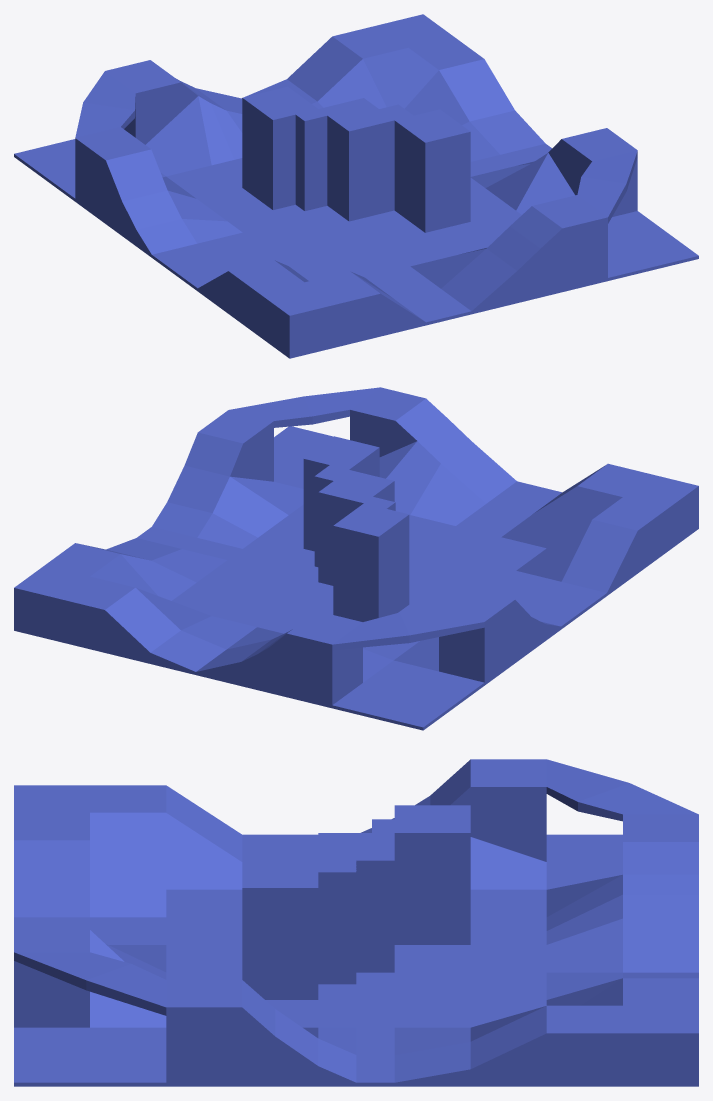
Rendered from map3.fbx.
3 views of the same model, one above another, from view 1: azimuth 30°, elevation 25°; view 2: azimuth 150°, elevation 25°; view 3: azimuth 270°, elevation 25° (orthographic). The views are drawn at different scales.
Parts seen in each view (by area): view 1: Cube; view 2: Cube; view 3: Cube.
Part boxes in pixels (x1,y1,x2,y2): Cube: [14, 14, 698, 358]; Cube: [14, 387, 698, 730]; Cube: [14, 759, 698, 1086].
Bounding box in the file's own units: 6153 × 1339 × 7178.
